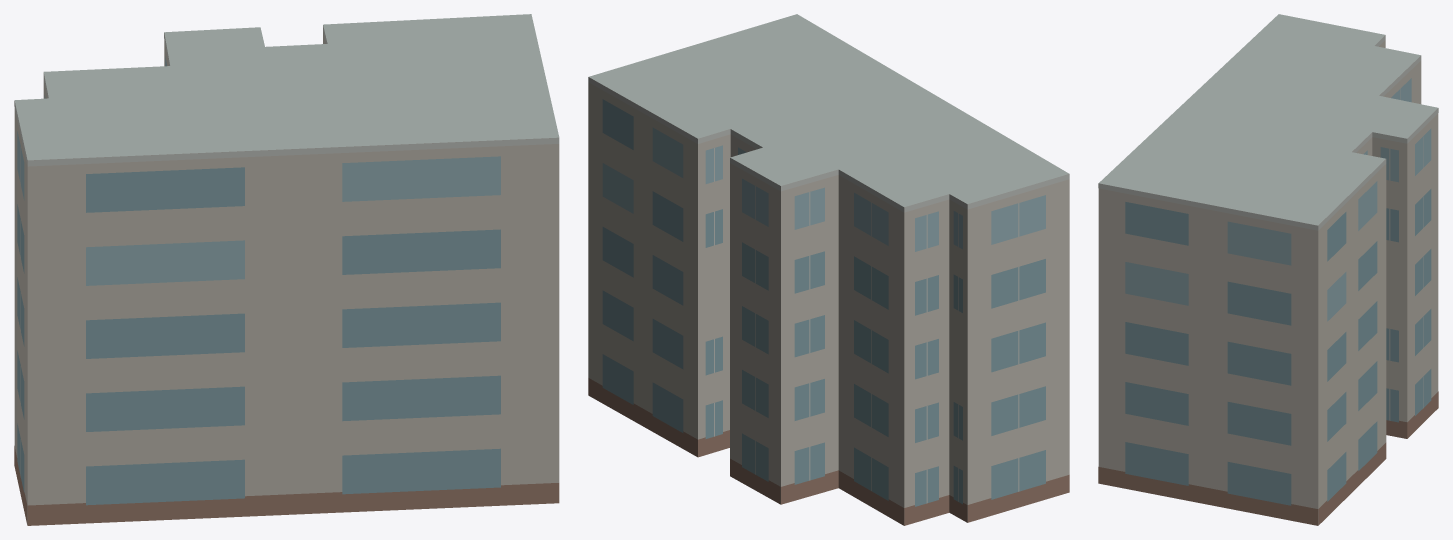
The model's file is survey-upis-32880231.glb.
3 views of the same model, side by side, from view 1: azimuth 30°, elevation 25°; view 2: azimuth 150°, elevation 25°; view 3: azimuth 270°, elevation 25° (orthographic). The views are drawn at different scales.
Parts seen in each view (by area): view 1: survey-upis-32880231.tmp; view 2: survey-upis-32880231.tmp; view 3: survey-upis-32880231.tmp.
Part boxes in pixels (x1,y1,x2,y2): survey-upis-32880231.tmp: (14, 14, 559, 525); survey-upis-32880231.tmp: (588, 14, 1069, 525); survey-upis-32880231.tmp: (1098, 14, 1438, 525).
Bounding box in the file's own units: 21.93 × 14.5 × 14.89.
